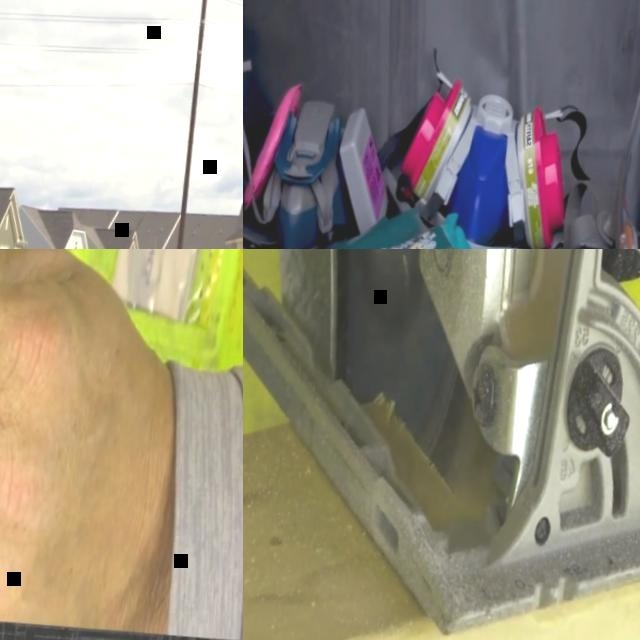Mask: (392, 72, 580, 249), (243, 74, 402, 249)
Person: (0, 249, 243, 640)
Safety Vest: (0, 249, 243, 378)
